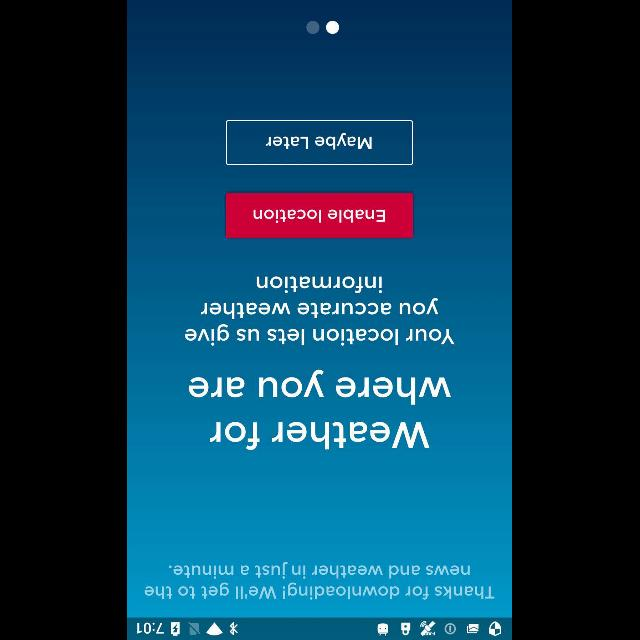pageindicator: (306, 20, 339, 34)
text: (186, 276, 456, 346), (145, 561, 495, 599), (190, 369, 452, 405), (210, 422, 430, 451)
textbutton: (226, 192, 414, 238), (226, 120, 414, 164)
uppertaskbar: (128, 617, 512, 639)
